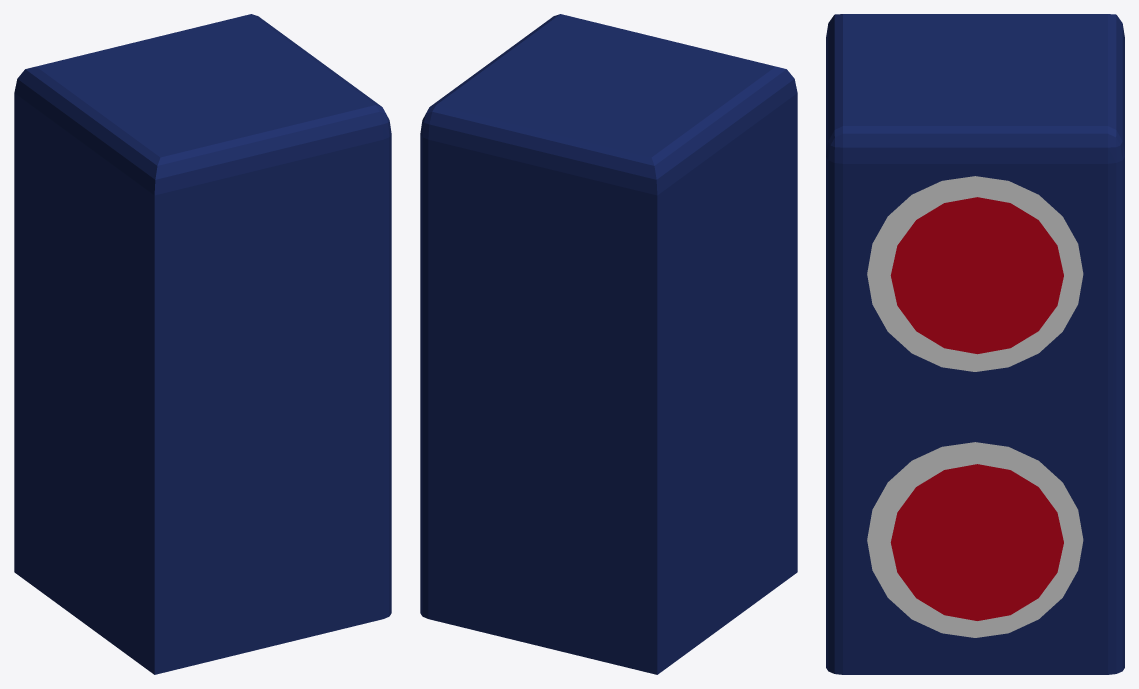
The model's file is speaker_francais.dae.
3 renders of one model, left to right at view 1: azimuth 30°, elevation 25°; view 2: azimuth 150°, elevation 25°; view 3: azimuth 270°, elevation 25°, orthographic. The views are drawn at different scales.
Visible parts, largest first — view 1: Cube; view 2: Cube; view 3: Cube, Circle_003, Circle_001.
Part boxes in pixels (left/top/right/bottom): Cube: left=14, top=14, right=391, bottom=674; Cube: left=420, top=14, right=797, bottom=674; Cube: left=826, top=14, right=1124, bottom=674; Circle_003: left=890, top=197, right=1063, bottom=620; Circle_001: left=867, top=176, right=1083, bottom=637.
Bounding box in the file's own units: 2.09 × 2 × 4.
